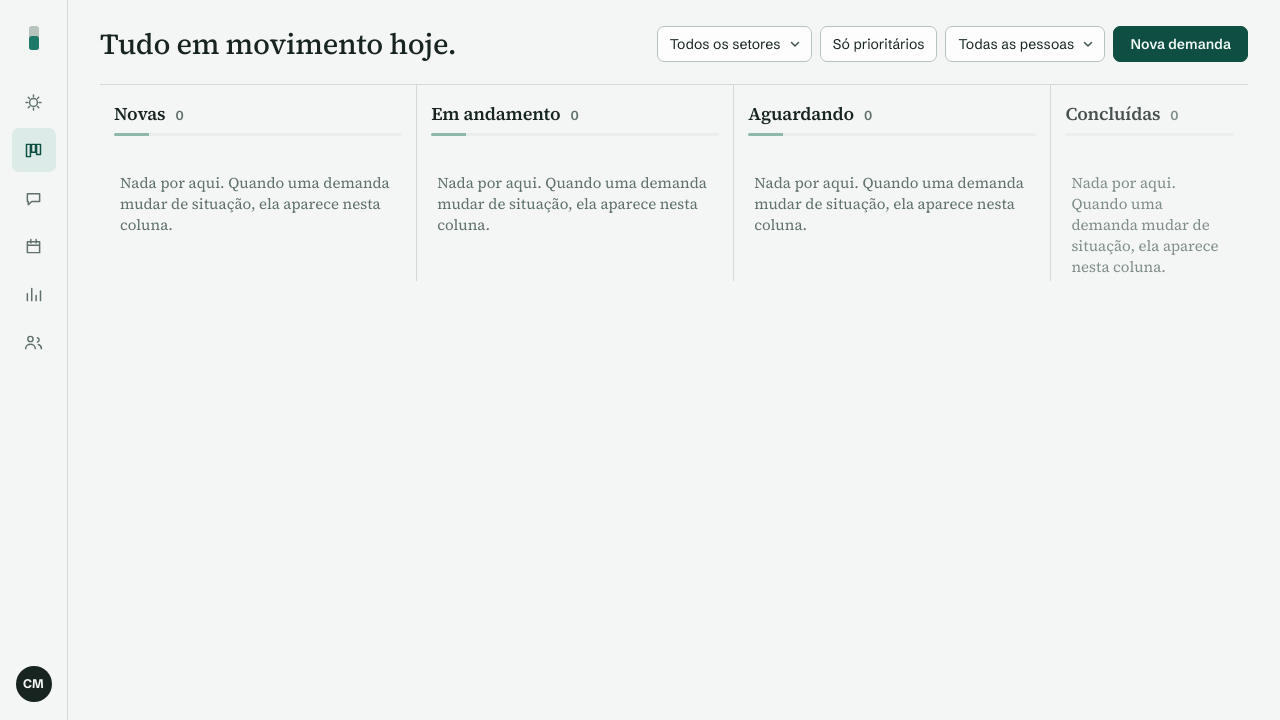
Test: new demand dialog › creates the demand with the chosen fields and opens it
Step 1. Click the button "Nova demanda" → {"x": 1181, "y": 44}, box 1114,26 -> 1248,62
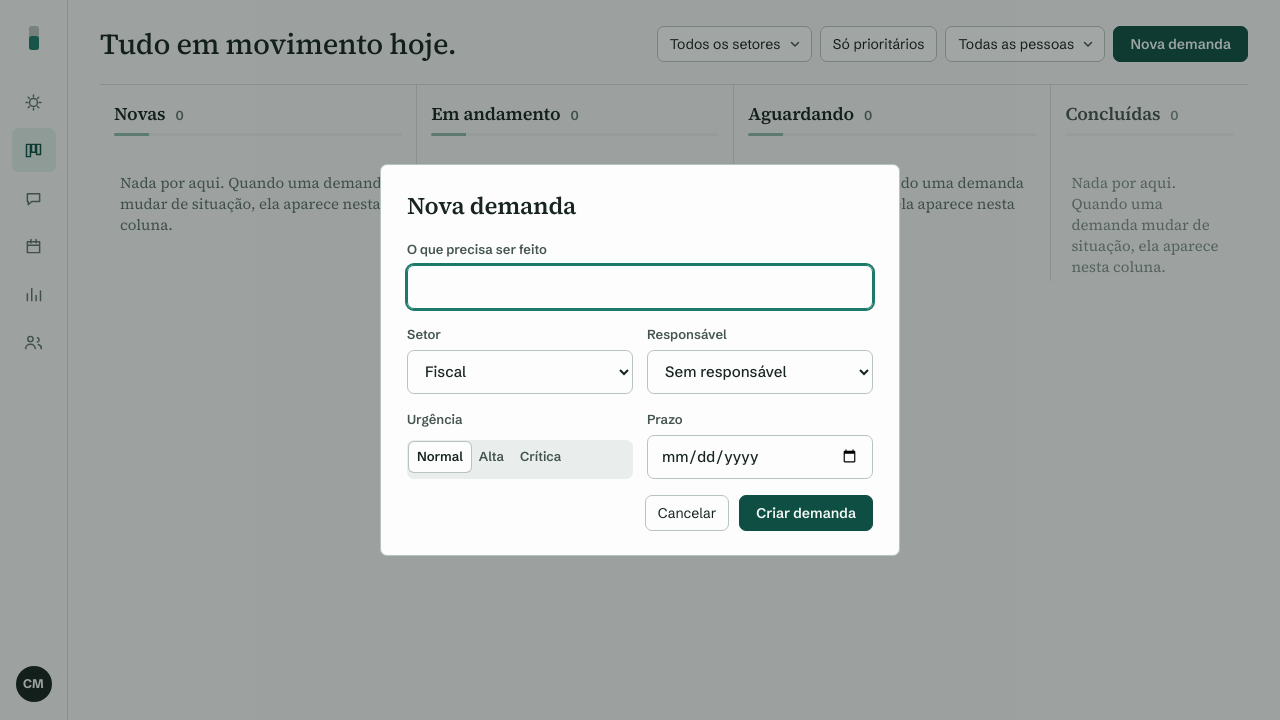
Step 2. Type "  Conferir o parcelamento " into the field labelled "O que precisa ser feito" → {"x": 640, "y": 287}, box 407,265 -> 873,309
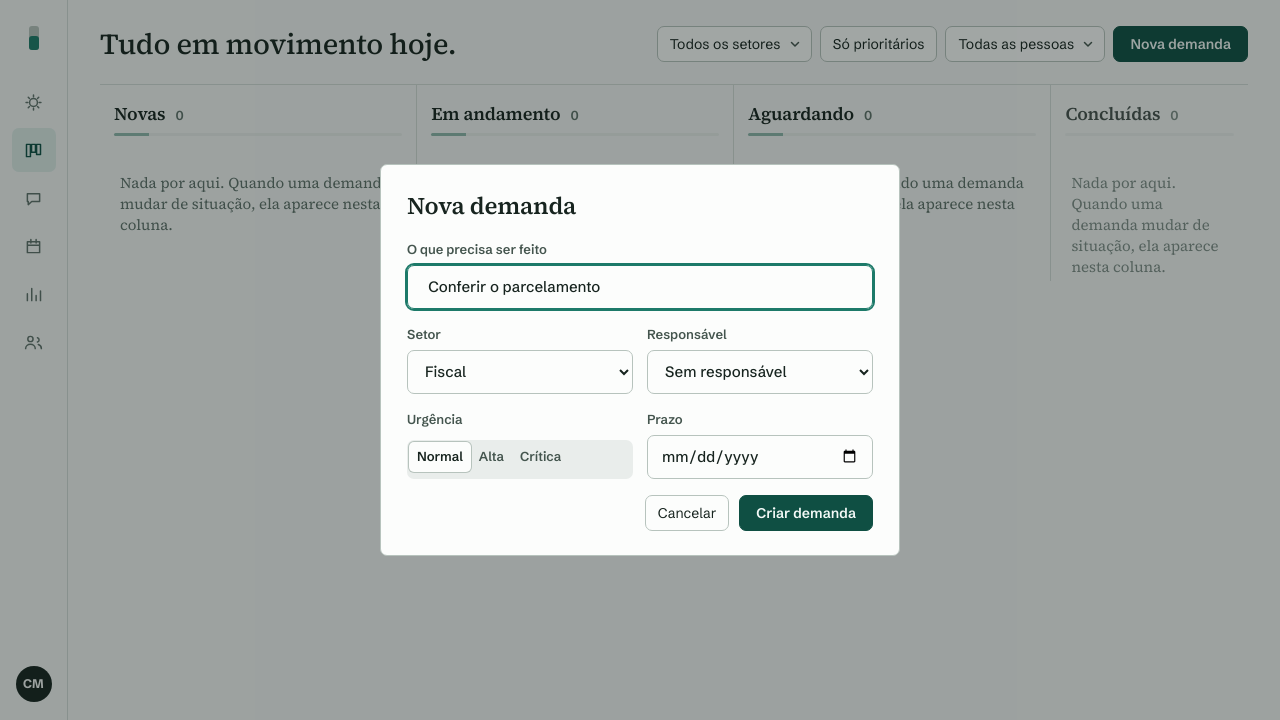
Step 3. Select "Fiscal" in the dropdown labelled "Setor" → {"x": 520, "y": 372}, box 407,350 -> 633,394
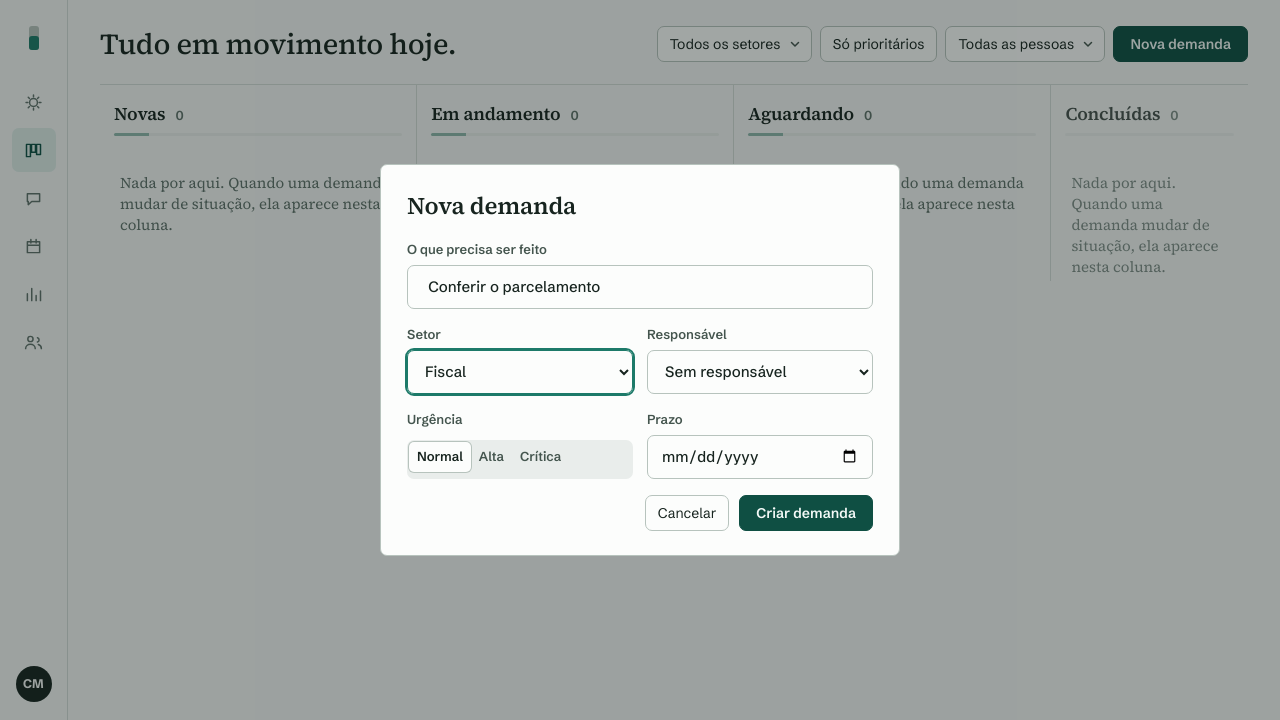
Step 4. Click the button "Alta" → {"x": 491, "y": 457}, box 471,442 -> 512,472
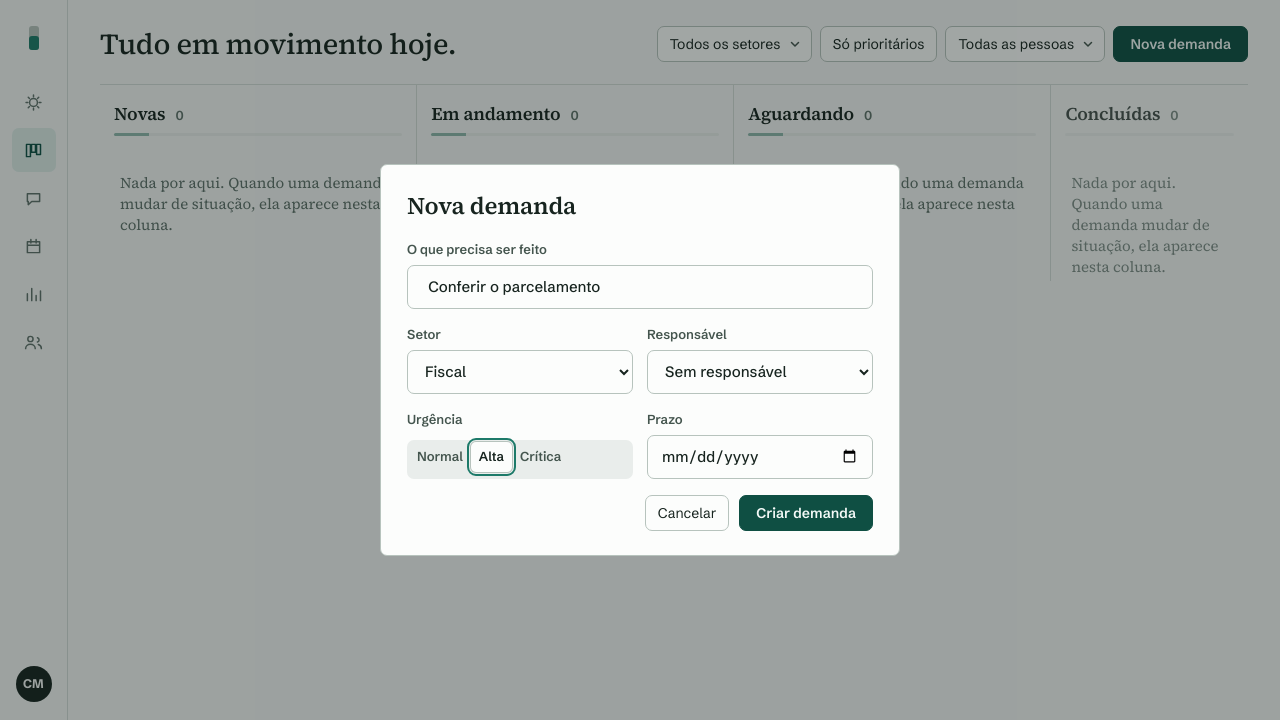
Step 5. Select "Bruno Costa" in the dropdown labelled "Responsável" → {"x": 760, "y": 372}, box 647,350 -> 873,394
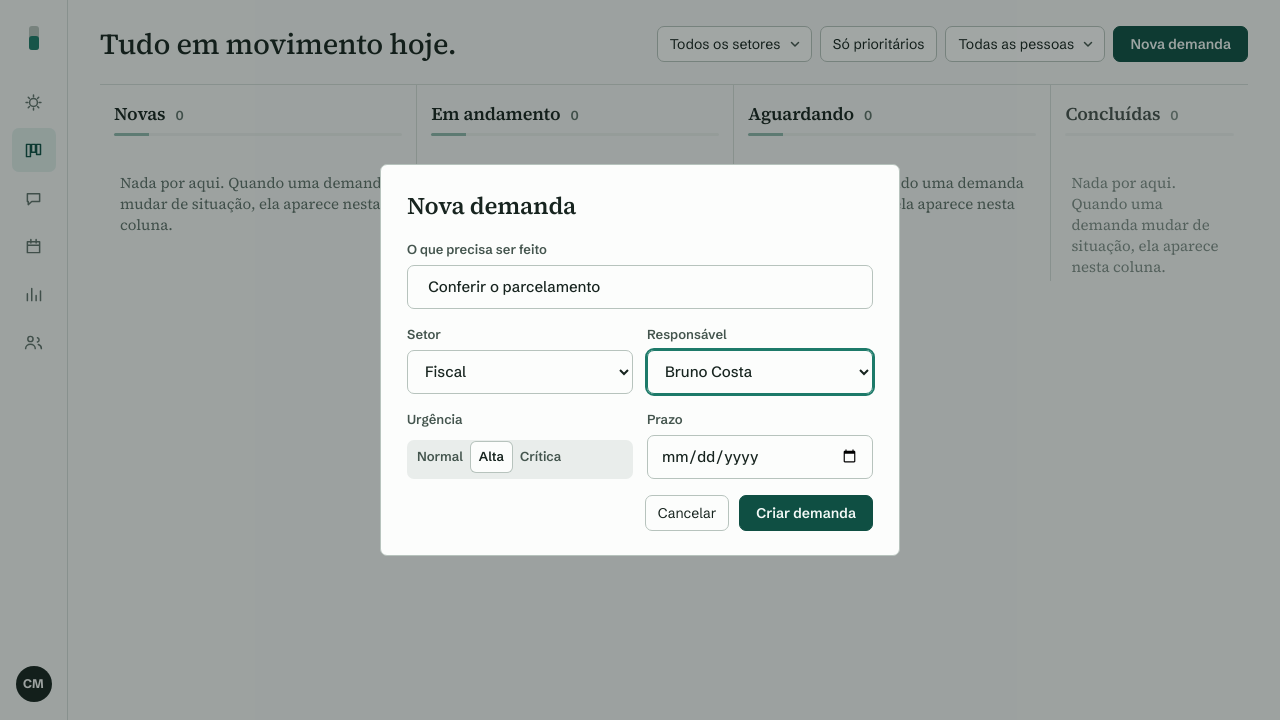
Step 6. Click the button "Criar demanda" → {"x": 806, "y": 513}, box 739,495 -> 873,531
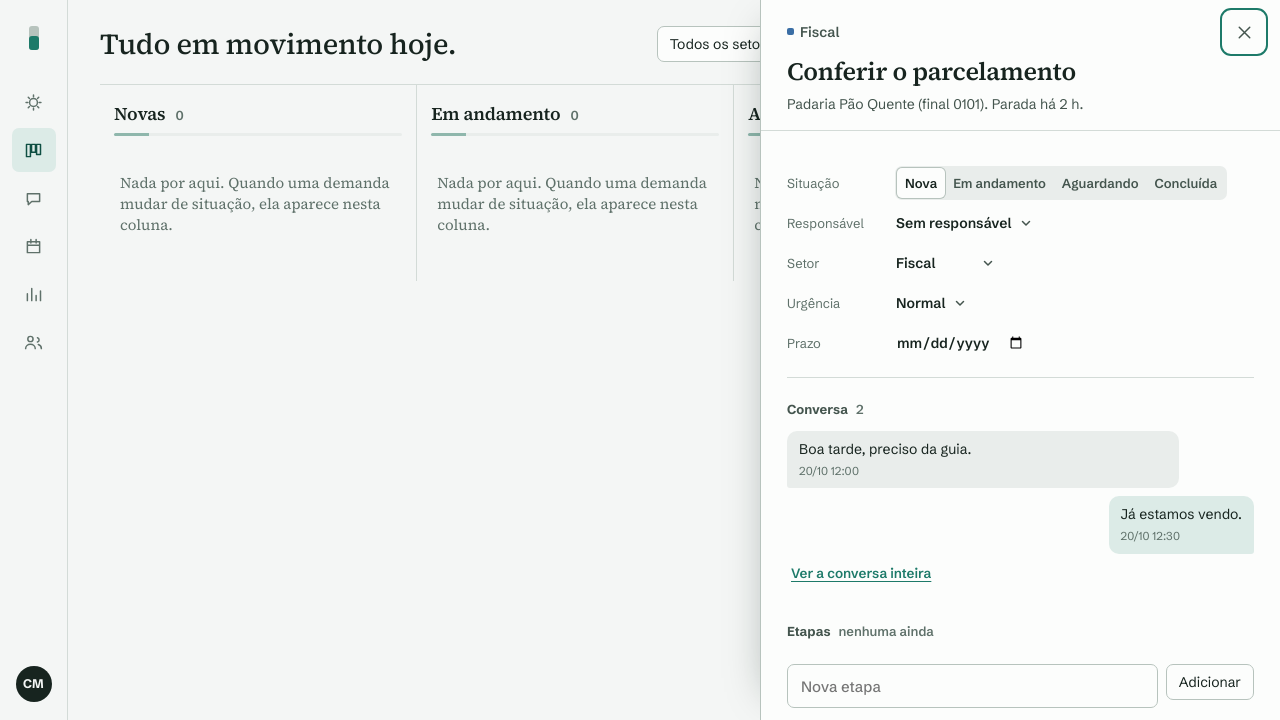
expect the heading "Conferir o parcelamento" is shown: met, box 787,54 -> 1076,88
